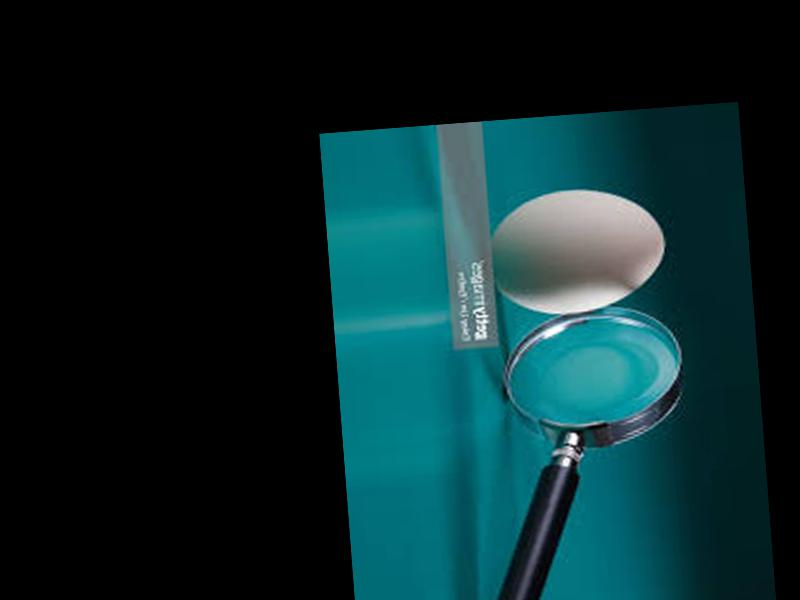Eggs: (484, 182, 670, 320)
